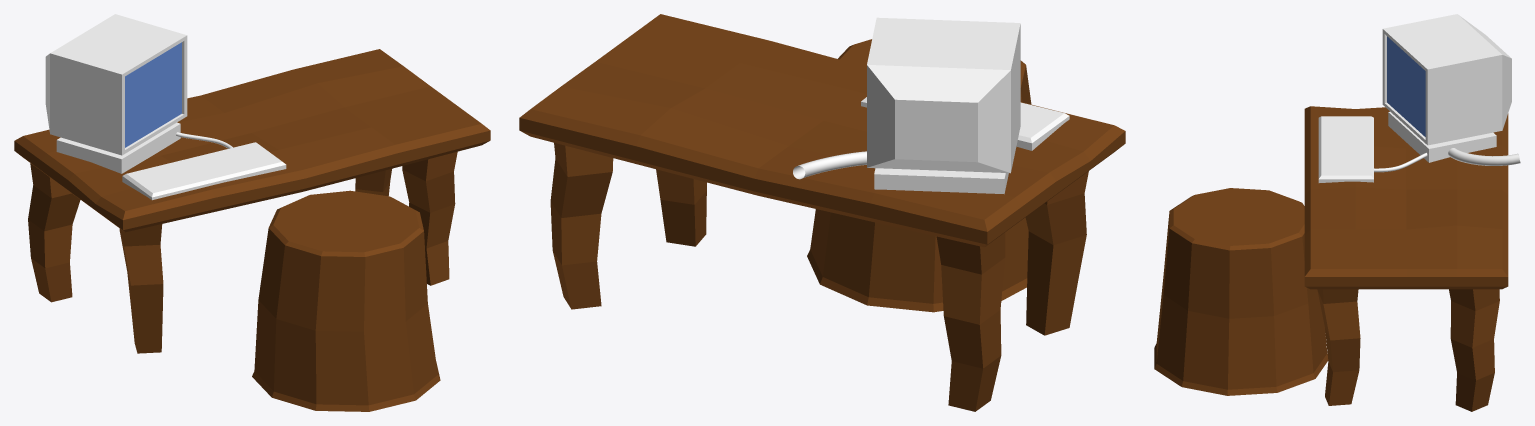
The model's file is Desk Setup.fbx.
The picture shows the model from 3 angles, left to right: view 1: azimuth 30°, elevation 25°; view 2: azimuth 150°, elevation 25°; view 3: azimuth 270°, elevation 25°; orthographic projection. The views are drawn at different scales.
Visible parts, largest first — view 1: Table, Stool, Screen, KeyBoard; view 2: Table, Screen, Stool, KeyBoard, Wire.001; view 3: Table, Stool, Screen, KeyBoard, Wire.001.
Boxes of the visible parts, x1=… form: Table: x1=14, y1=49, x2=490, y2=353; Stool: x1=252, y1=190, x2=440, y2=411; Screen: x1=45, y1=14, x2=187, y2=173; KeyBoard: x1=122, y1=142, x2=286, y2=200; Table: x1=519, y1=14, x2=1125, y2=411; Screen: x1=867, y1=17, x2=1020, y2=194; Stool: x1=807, y1=39, x2=1031, y2=312; KeyBoard: x1=861, y1=97, x2=1069, y2=150; Wire.001: x1=793, y1=151, x2=866, y2=179; Table: x1=1304, y1=106, x2=1508, y2=411; Stool: x1=1154, y1=188, x2=1328, y2=395; Screen: x1=1382, y1=14, x2=1511, y2=162; KeyBoard: x1=1318, y1=116, x2=1373, y2=182; Wire.001: x1=1448, y1=148, x2=1520, y2=165.
Bounding box in the file's own units: 300 × 217 × 276.
